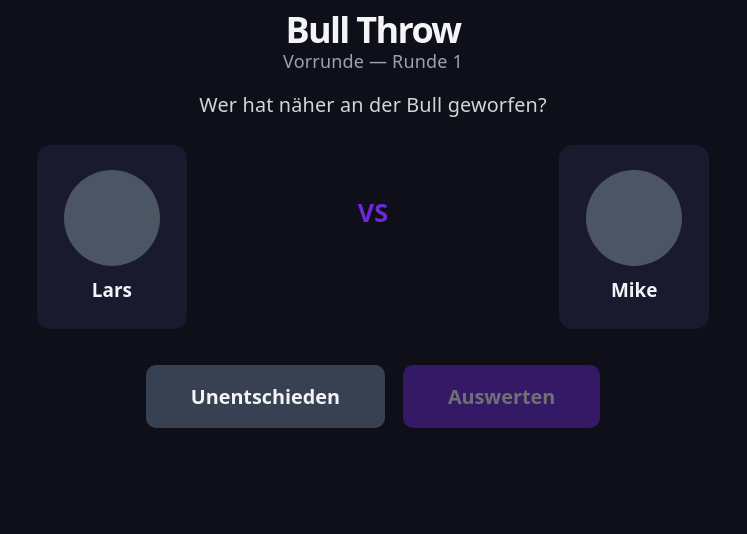
Scenario: BullThrowScreen › clicking a player card and submitting shows result banner
The image size is (747, 534).
expect the text "Lars" is shown: met, box [92,277,132,303]
Note: Click Lars card (player 10) to select as winner
Step 1. Click the button "Lars" → x=112, y=237, box [37,145,187,329]
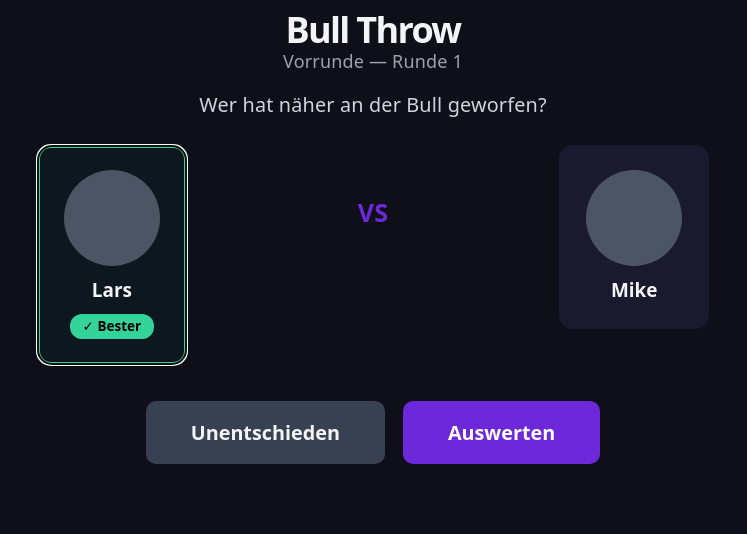
Step 2. Click the button "Auswerten" → x=502, y=432, box [403,401,600,464]
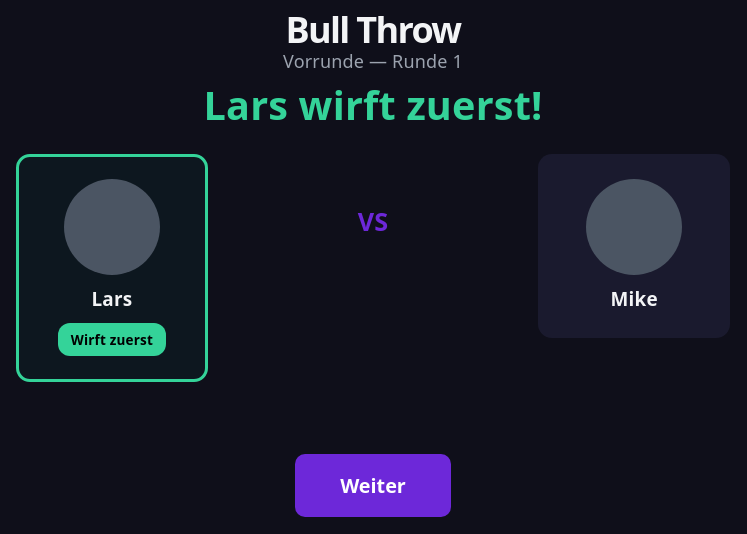
expect the text "Lars wirft zuerst!" is shown: met, box [204,92,542,118]
